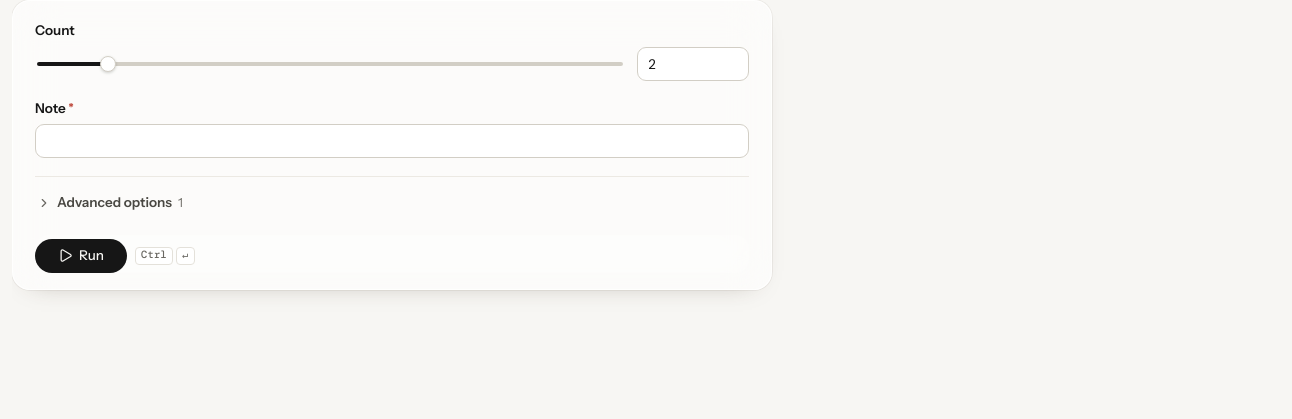
tool form validation › marks the previous result stale after a validation error and keeps Reset
Type "hi" into the field labelled "Note *" at (392, 141), box [35,124,749,158]
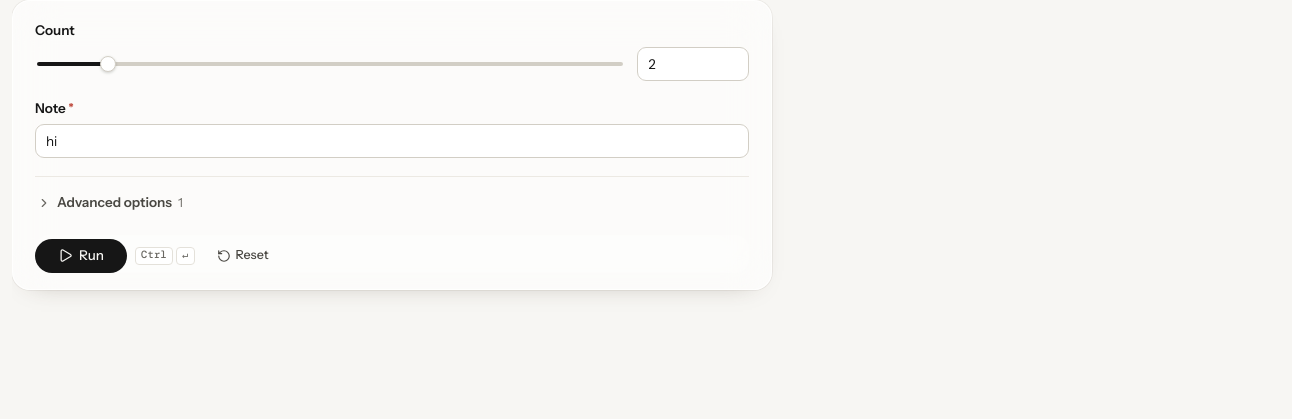
Click the button "Run" at (81, 256), box [35,239,127,273]
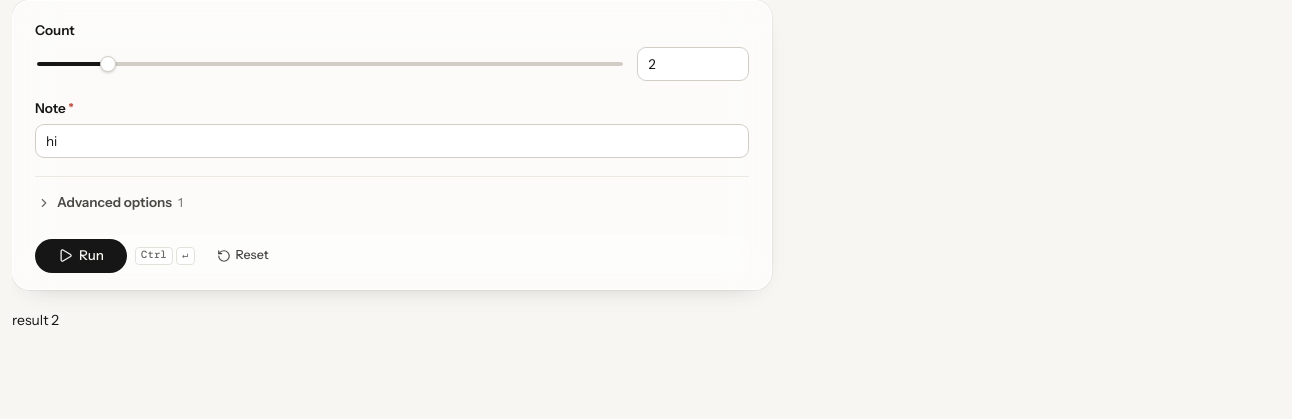
Expected: the text "Out of date" is not shown
Expected: the text with test id "result" reads "result 2", [12,311,59,329]
Replace the text in the number field labelled "Count" with "0" at (693, 64), box [637,47,749,81]
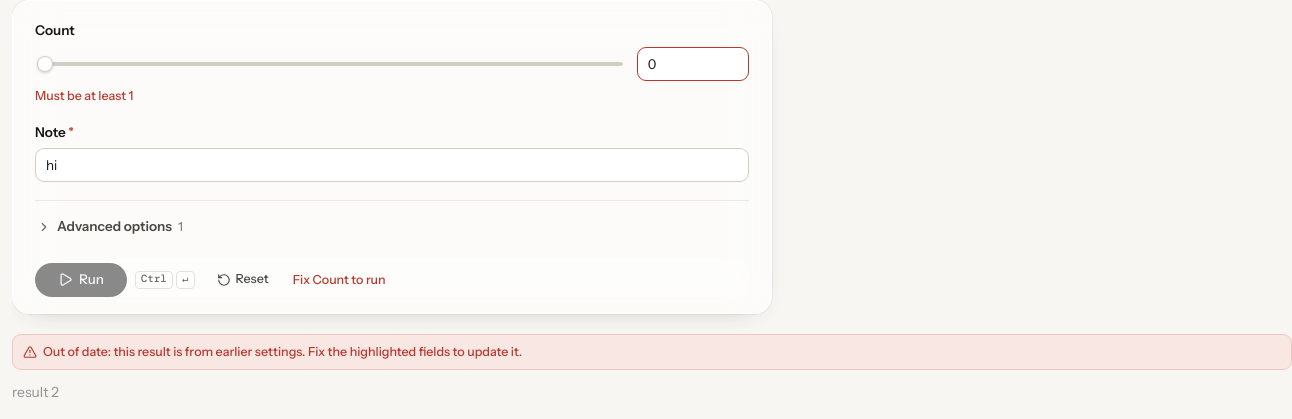
Expected: the button "Reset" is shown, [207,266,279,294]
Expected: the text "Out of date" is shown, [43,344,522,359]
Replace the text in the number field labelled "Count" with "4" at (693, 64), box [637,47,749,81]
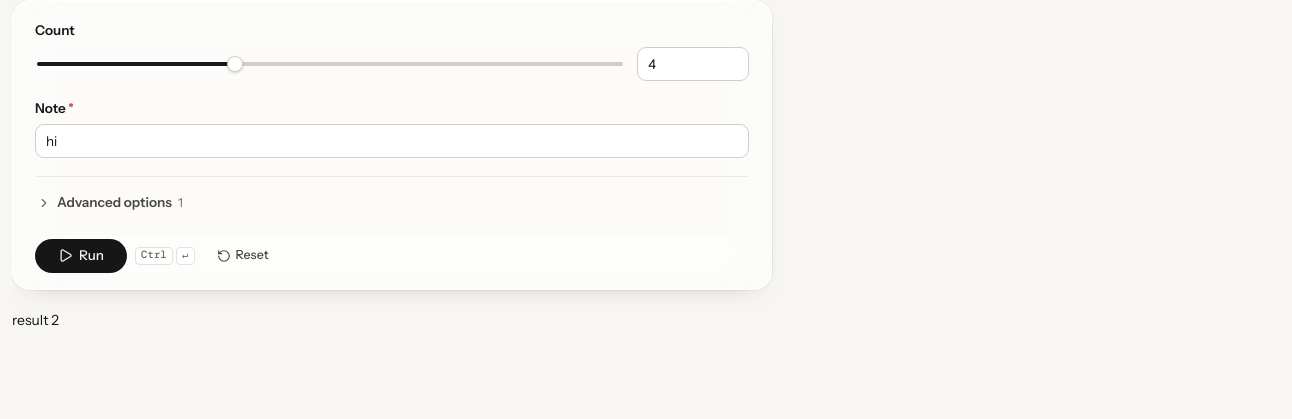
Expected: the text "Out of date" is gone
